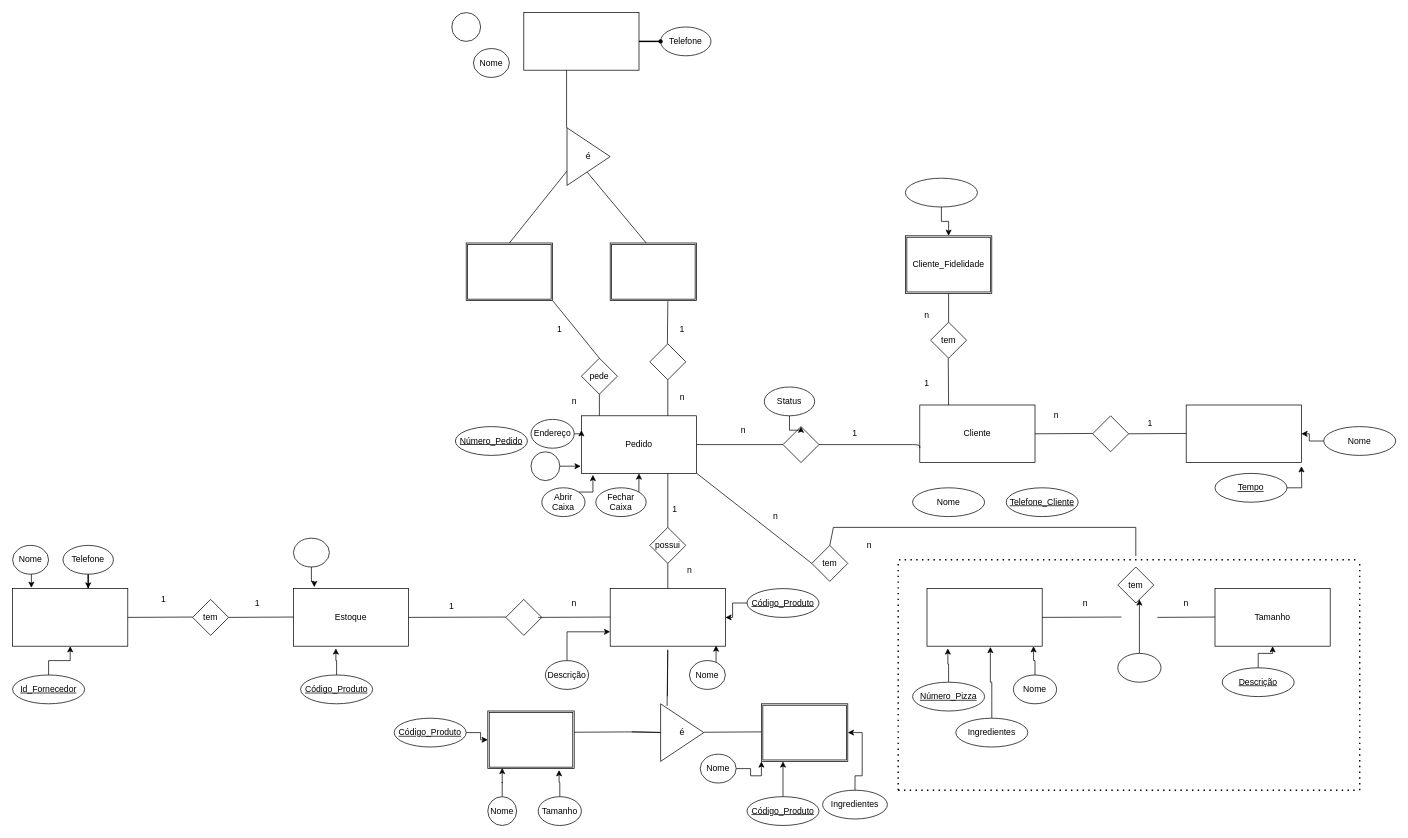
This 1408x838 diagram has some shape labels left out. The shapes that lost their labels are listed below. From the top down, each one's centre as x and y in pixels, then its label:
(466,26): Id
(581,41): Funcionários
(941,192): Quantidade de Pedidos
(509,271): Atendente
(653,271): Entregador
(667,361): entrega
(800,444): faz
(1110,433): mora
(1243,433): Bairro
(545,466): Data
(311,552): Alerta
(70,617): Fornecedor
(523,617): contém
(667,617): Produtos
(984,617): Pizza
(1139,667): Preço
(530,739): Bebidas
(804,732): Sobremesas
